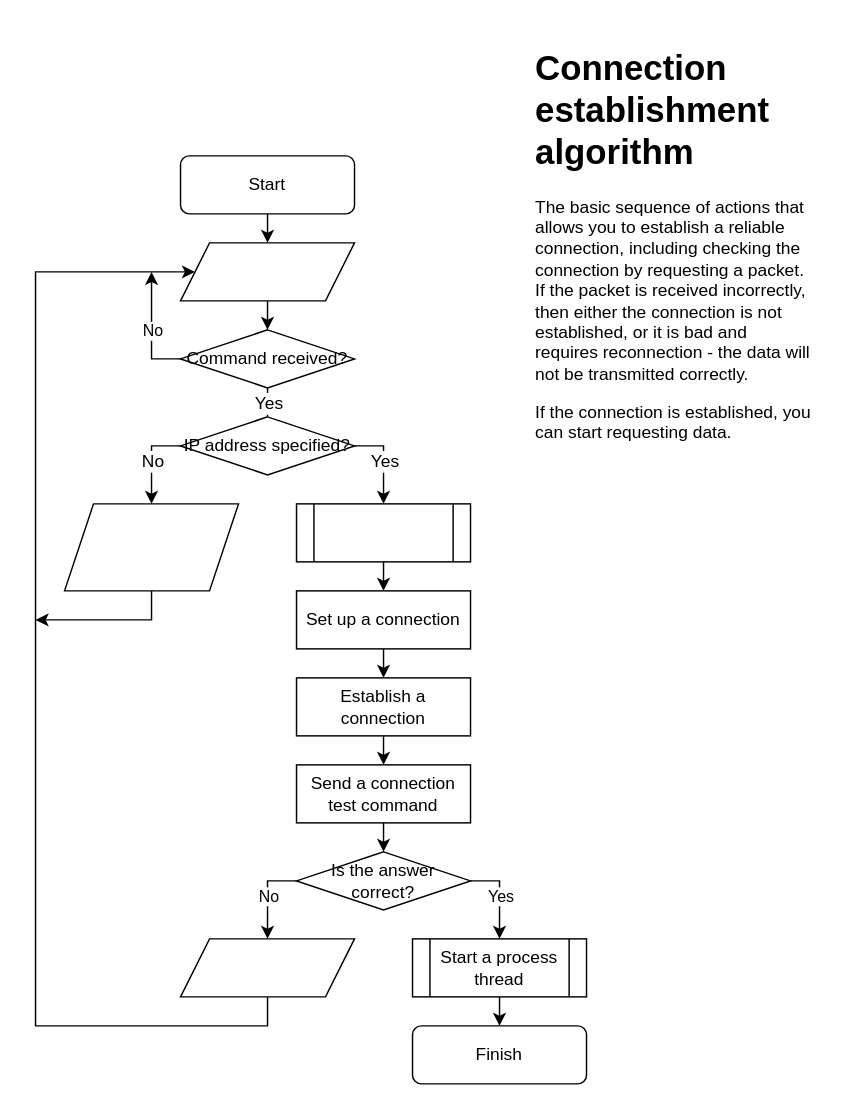
This 844x1109 diagram has some shape labels left out. The centre of each missing label's shape, as x and y in pixels:
"Create a data acquisition process object" belongs at [383,532].
"Issue a warning that you need to specify the IP address of the device" belongs at [151,546].
"Throw connection error" belongs at [267,967].
"Wait for connection commands" belongs at [267,271].
